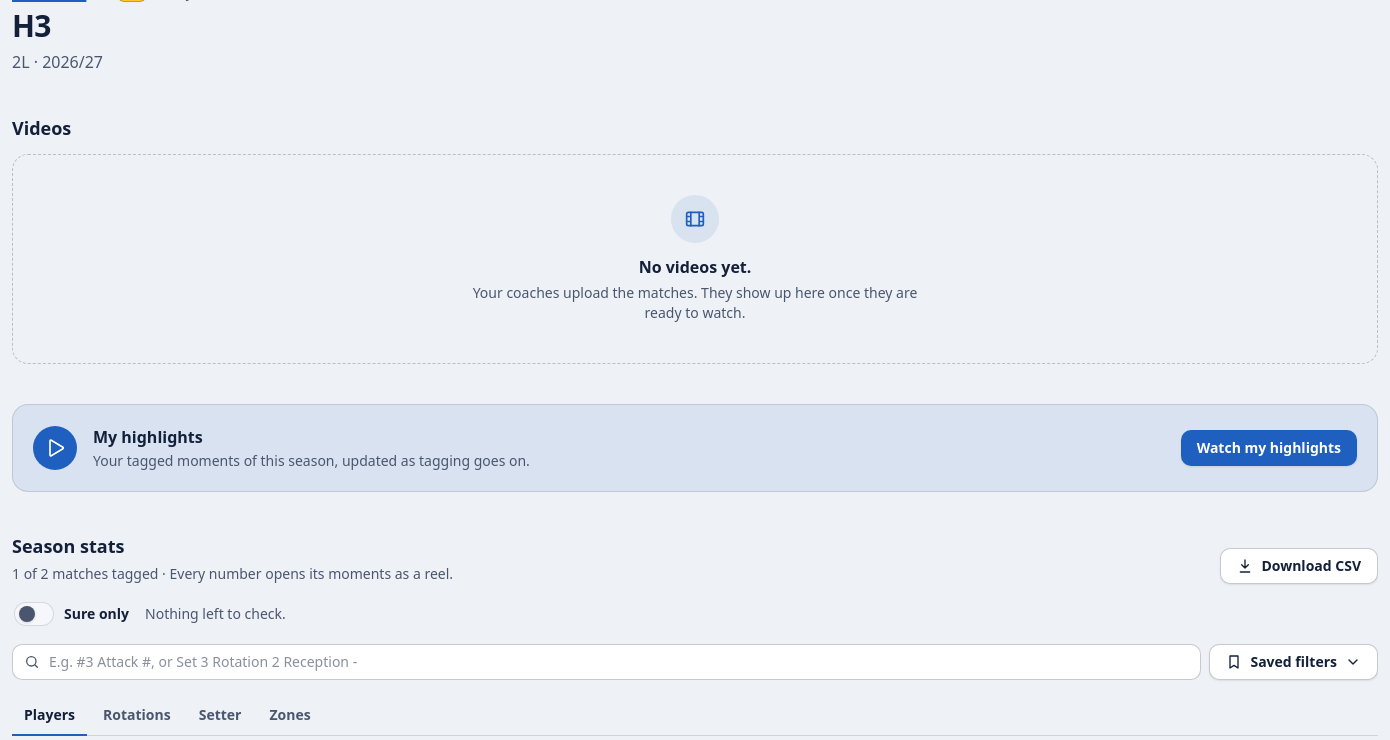
Test case: TeamPage season stats › adds up the rotations and the setter over the season, as plain numbers
The width and height of the screenshot is (1390, 740).
Click the tab "Rotations": (137, 716) [91,696,183,736]
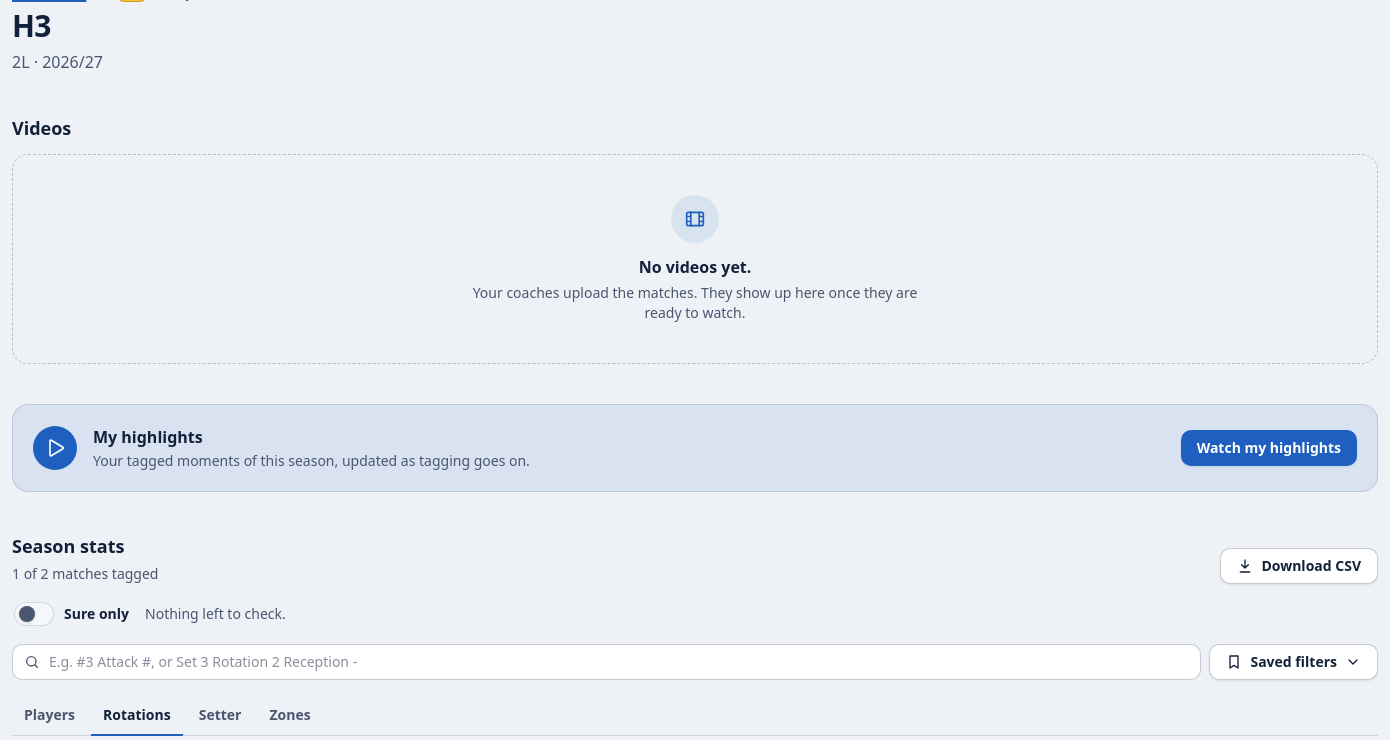
Click the tab "Setter": (220, 716) [187,696,254,736]
(page scrolled)
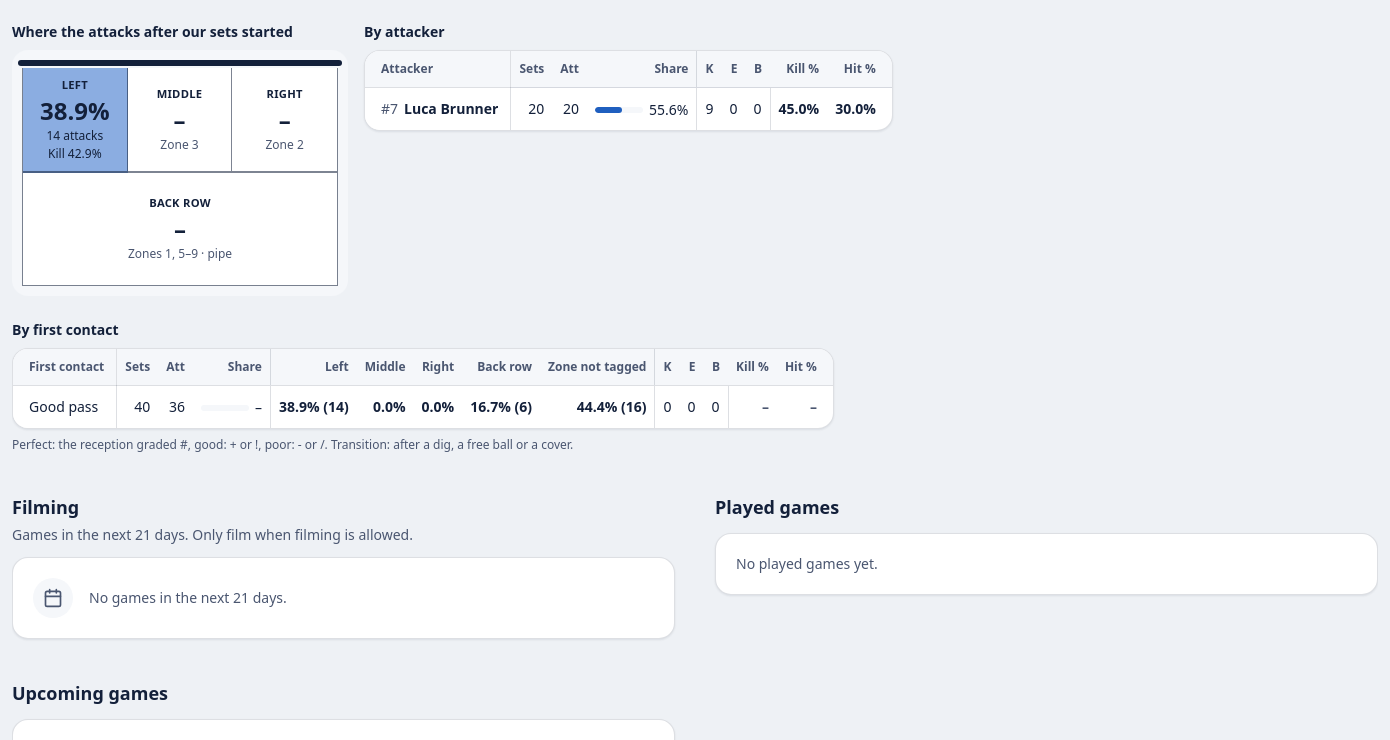
expect the picture named "Left: 38.9% of the attacks (14)" is shown: met, box [23,68,128,173]
expect the text "Zone not tagged" is shown: met, box [548,358,646,375]
